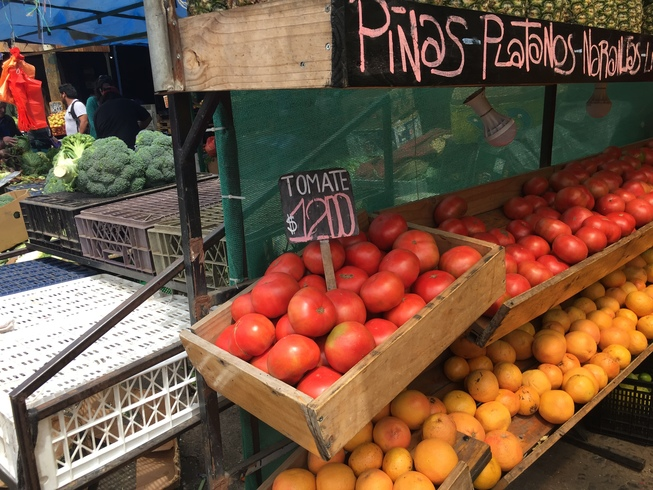precio: (278, 164, 366, 257)
